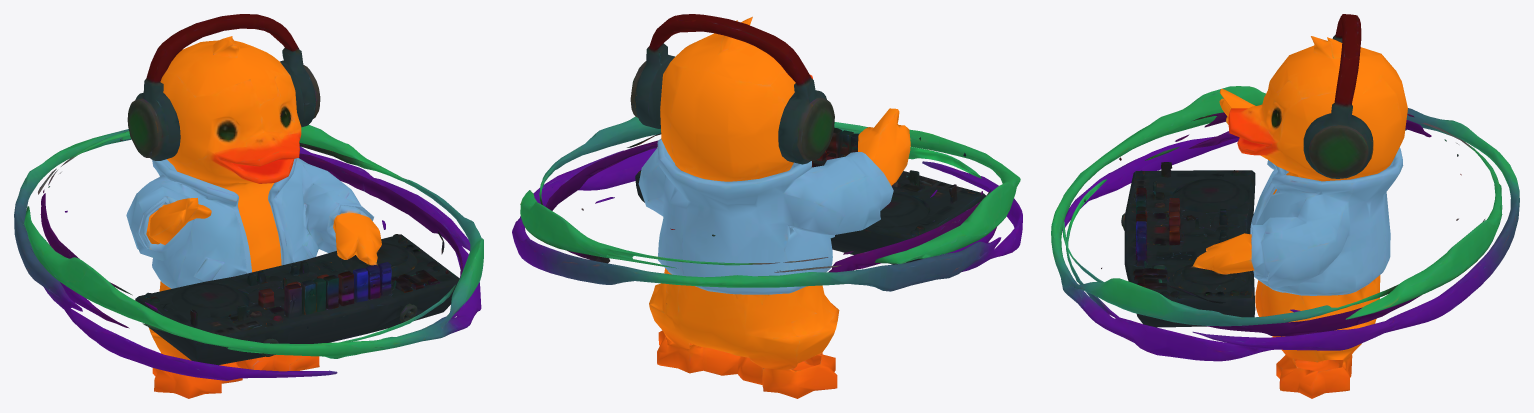
The model's file is dj_duck.glb.
3 views of the same model, side by side, from view 1: azimuth 30°, elevation 25°; view 2: azimuth 150°, elevation 25°; view 3: azimuth 270°, elevation 25° (orthographic). The views are drawn at different scales.
Parts seen in each view (by area): view 1: world; view 2: world; view 3: world.
Boxes of the visible parts, x1,y1,x2,y2 form: world: (14, 14, 483, 398); world: (512, 14, 1022, 398); world: (1051, 14, 1519, 398).
Bounding box in the file's own units: 0.9723 × 0.7892 × 1.
Materials: 1 (1 with a texture image).
